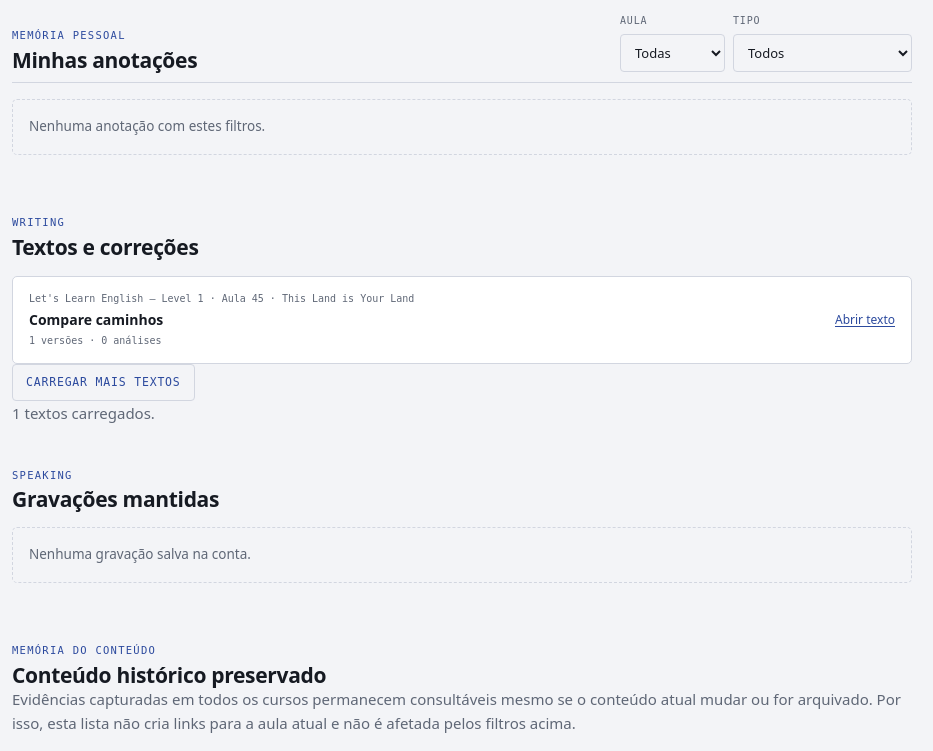
Test: NotebookPage › carrega mais textos sem misturar a página anterior e anuncia o novo total
The image size is (933, 751).
(page scrolled)
Expected: the text "Compare caminhos" is shown, top-left (29, 310), bottom-right (163, 329)
Click the button "Carregar mais textos": (103, 382) top-left (12, 364), bottom-right (195, 400)
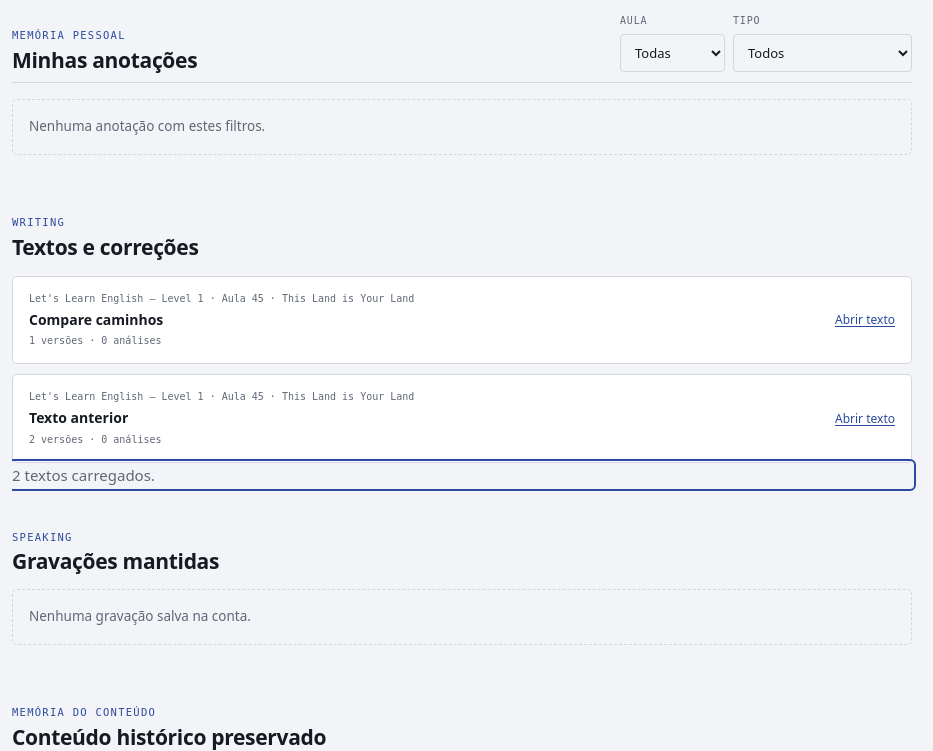
Expected: the text "Compare caminhos" is shown, top-left (29, 310), bottom-right (163, 329)
Now the text "Texto anterior" is shown, box top-left (29, 408), bottom-right (128, 427)
